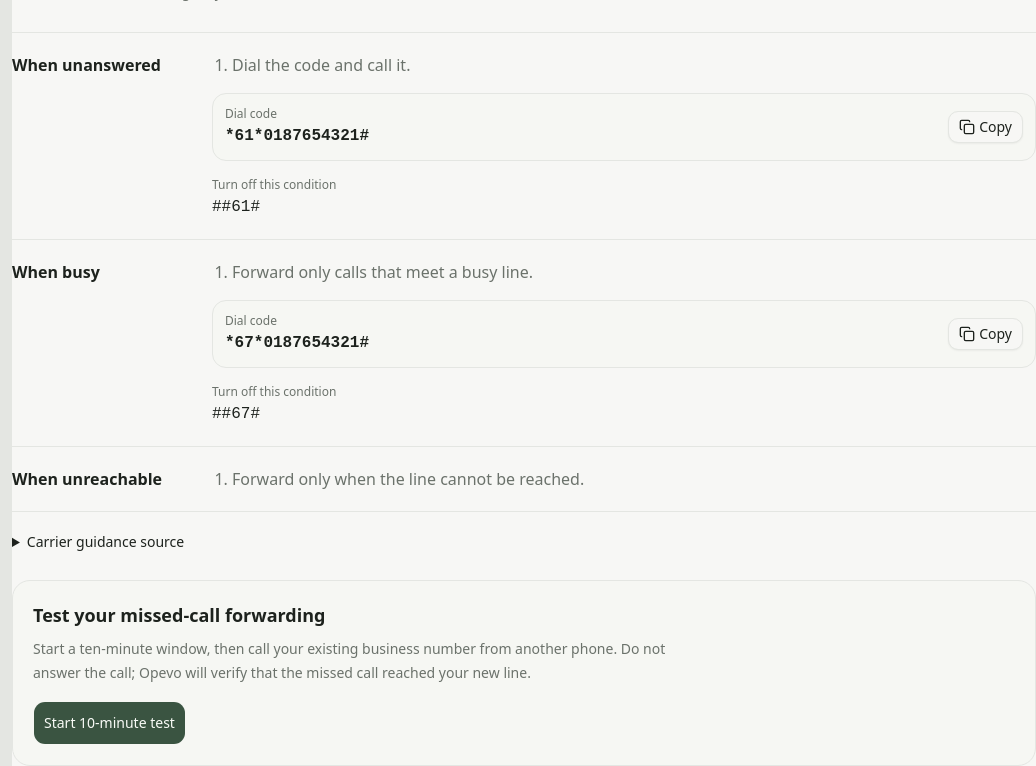
Scenario: forwarding milestone › keeps a safe window-opening failure visible
The width and height of the screenshot is (1036, 766).
(page scrolled)
Click the button "Start 10-minute test" at [109, 723], box [33, 701, 186, 745]
(page scrolled)
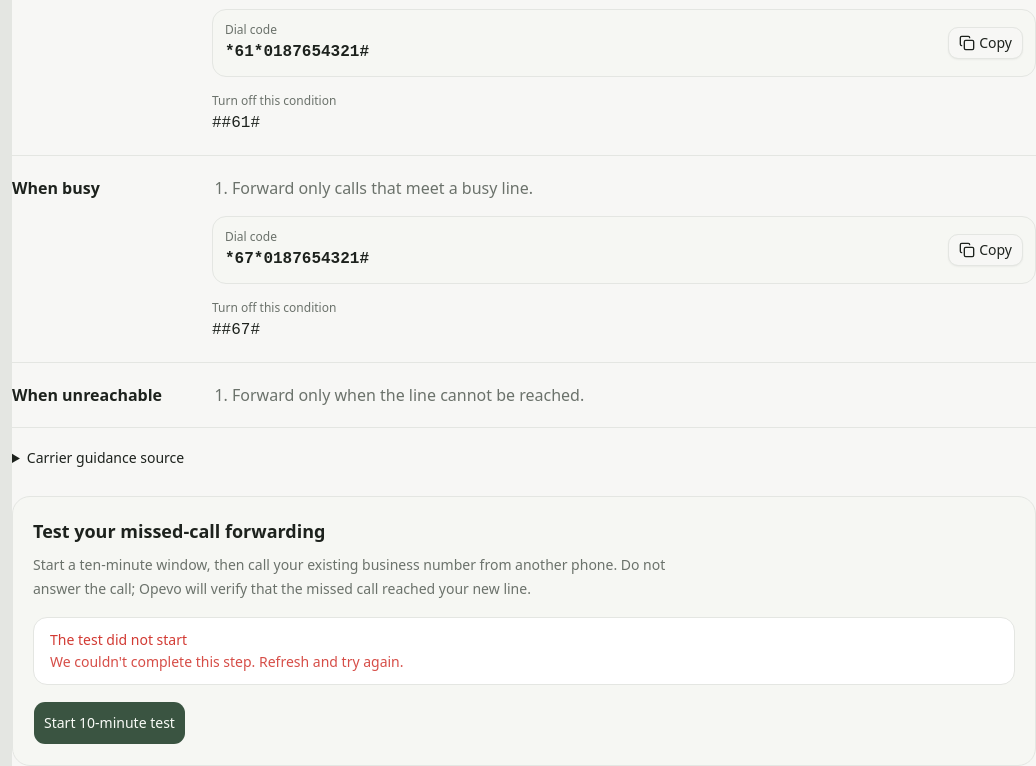
Result: the message shows "couldn't complete this step" at [50, 652, 404, 671]
